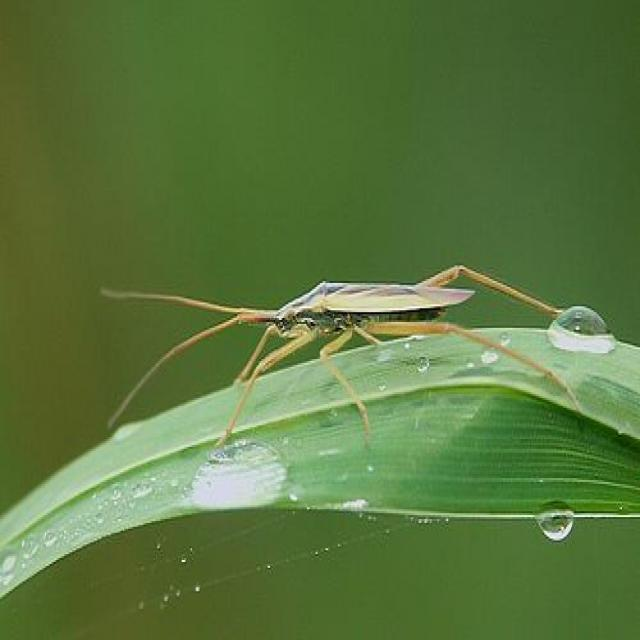Miridae-Adult-: (87, 245, 588, 450)
